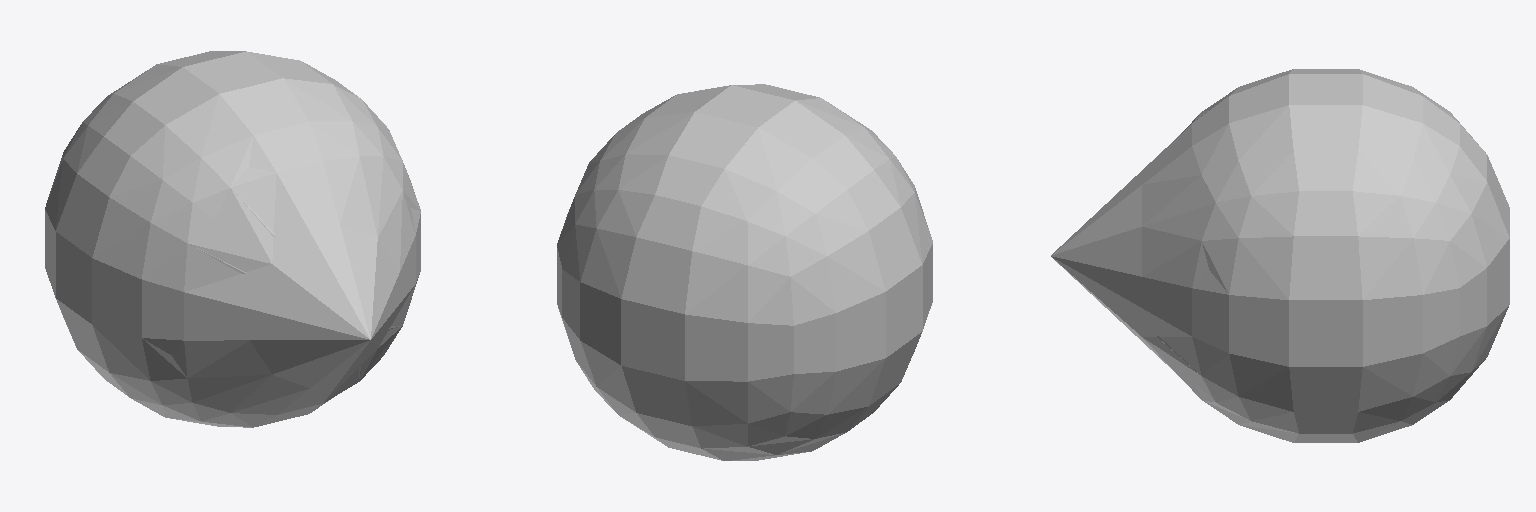
File: comma.obj
3 views of the same model, side by side, from view 1: azimuth 30°, elevation 25°; view 2: azimuth 150°, elevation 25°; view 3: azimuth 270°, elevation 25° (orthographic).
Visible parts, largest first — view 1: comma, comma.001_Cube; view 2: comma.001_Cube, comma; view 3: comma.001_Cube, comma.
Part boxes in pixels (bbox=[...]): comma: bbox=[59, 64, 420, 427]; comma.001_Cube: bbox=[45, 51, 420, 427]; comma.001_Cube: bbox=[557, 84, 932, 460]; comma: bbox=[557, 128, 932, 438]; comma.001_Cube: bbox=[1157, 69, 1509, 442]; comma: bbox=[1051, 69, 1508, 433].
Bounding box in the file's own units: 1 × 1 × 1.25.